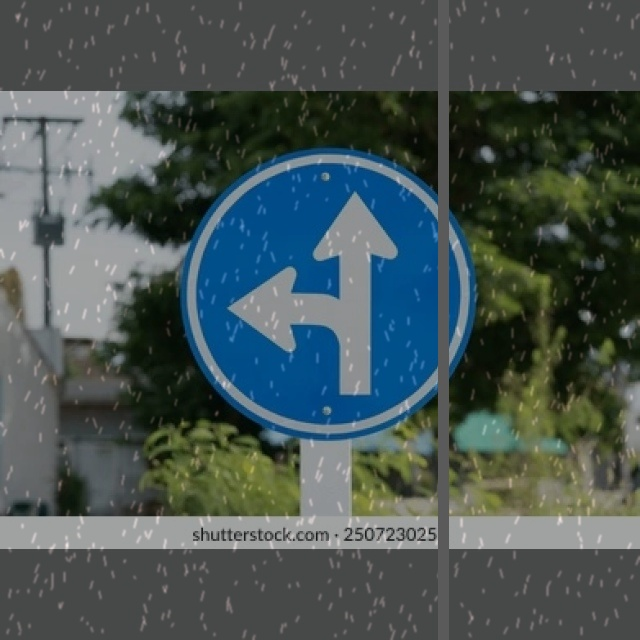Compulsory_Ahead_or_Turn_Left: (178, 154, 472, 437)
